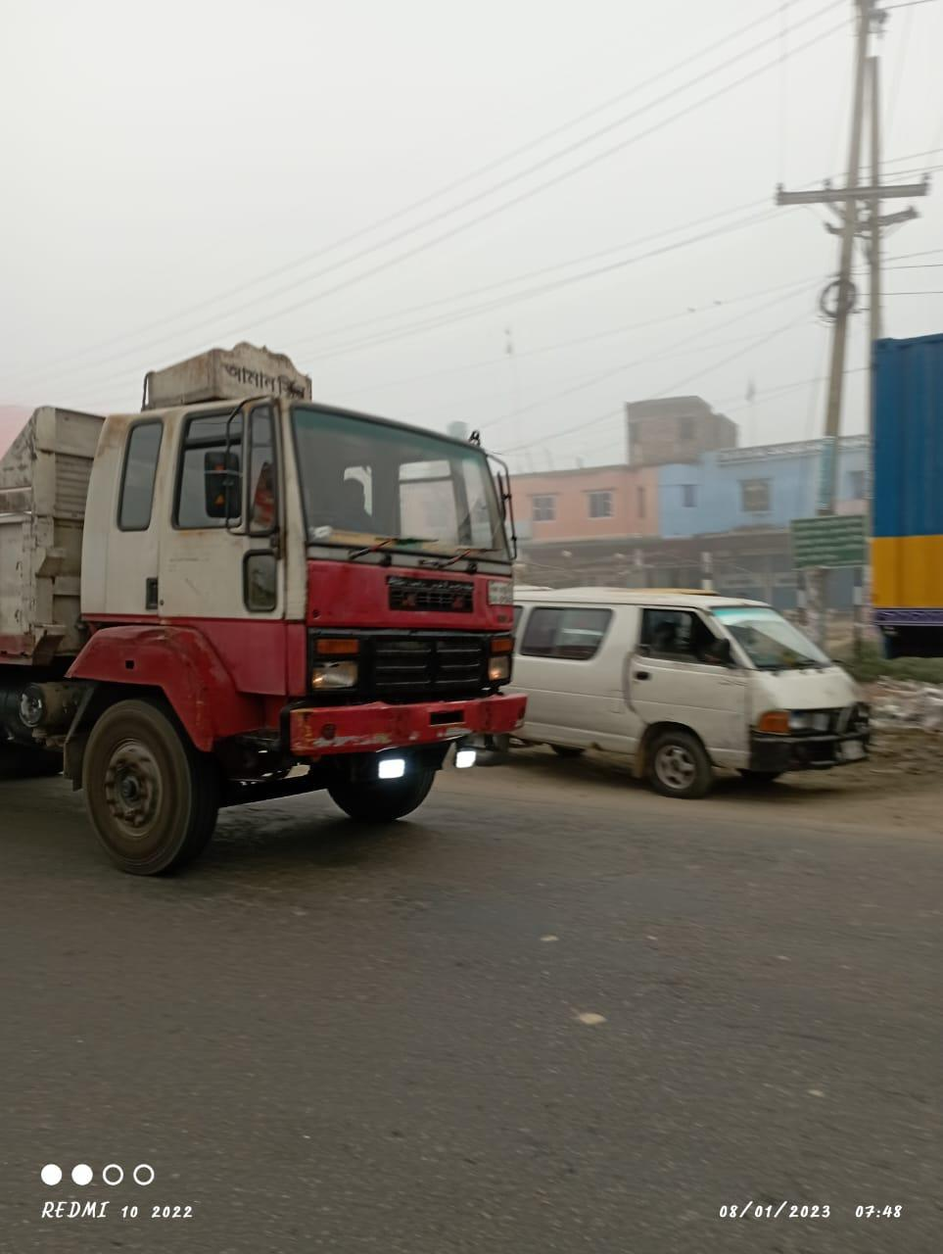Car: (529, 581, 874, 814)
Truck: (8, 337, 527, 858)
